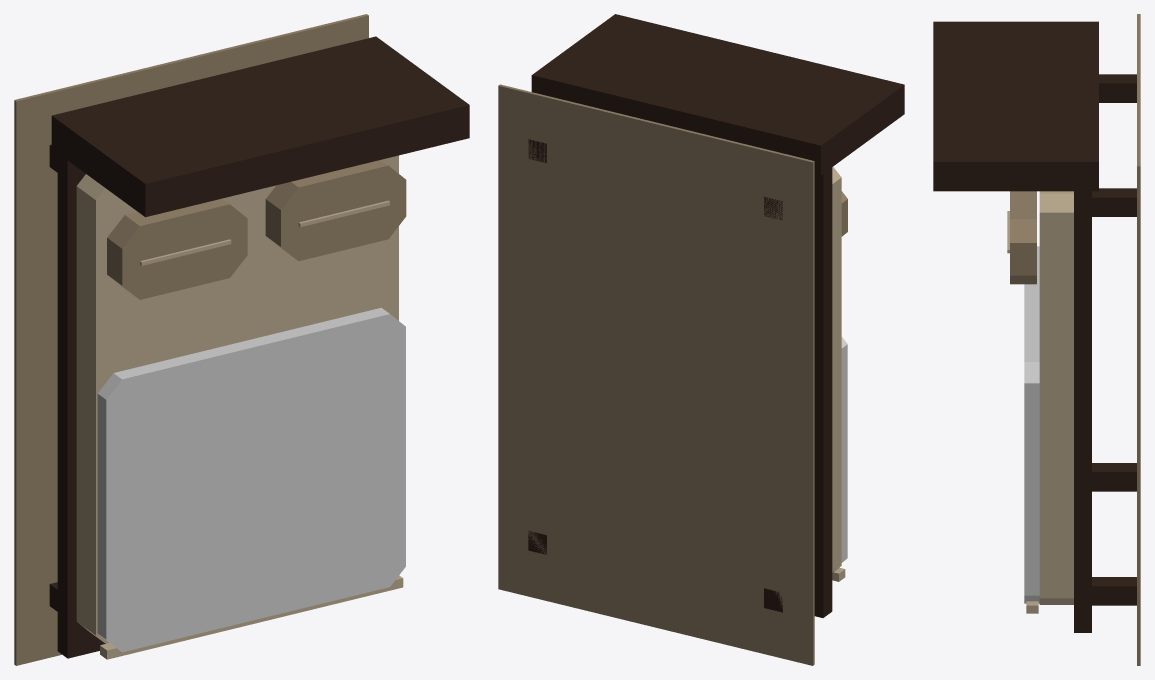
Rendered from SM_BSW_Department_BedVignette_A.obj.
3 renders of one model, left to right at view 1: azimuth 30°, elevation 25°; view 2: azimuth 150°, elevation 25°; view 3: azimuth 270°, elevation 25°, orthographic. The views are drawn at different scales.
Parts seen in each view (by area): view 1: SM_BSW_Department_BedVignette_A; view 2: SM_BSW_Department_BedVignette_A; view 3: SM_BSW_Department_BedVignette_A.
Part boxes in pixels (x1,y1,x2,y2): SM_BSW_Department_BedVignette_A: [14, 14, 469, 665]; SM_BSW_Department_BedVignette_A: [498, 14, 904, 665]; SM_BSW_Department_BedVignette_A: [933, 14, 1140, 665].
Bounding box in the file's own units: 200 × 306 × 115.
